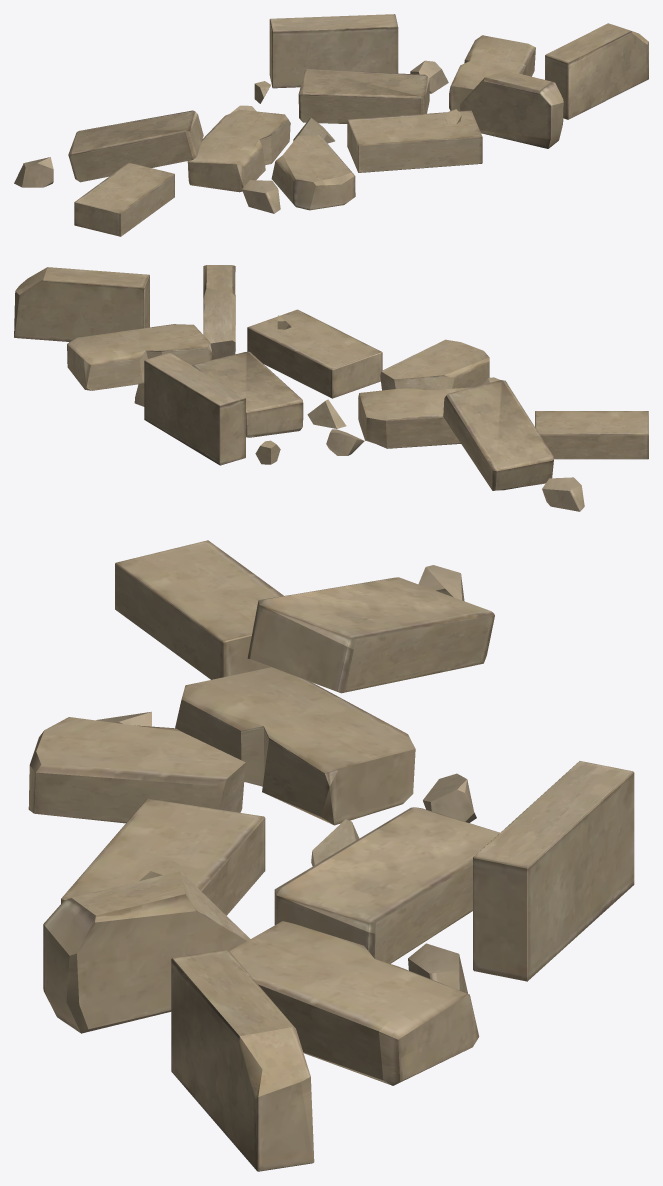
The picture shows the model from 3 angles, top to bottom: view 1: azimuth 30°, elevation 25°; view 2: azimuth 150°, elevation 25°; view 3: azimuth 270°, elevation 25°; orthographic projection. The views are drawn at different scales.
Parts seen in each view (by area): view 1: body0_model0_lod0_mesh0; view 2: body0_model0_lod0_mesh0; view 3: body0_model0_lod0_mesh0.
Part boxes in pixels (x1,y1,x2,y2): body0_model0_lod0_mesh0: (14, 14, 648, 236); body0_model0_lod0_mesh0: (14, 265, 648, 511); body0_model0_lod0_mesh0: (28, 540, 634, 1171).
Bounding box in the file's own units: 344 × 34.85 × 153.
1 material, 1 textured.
